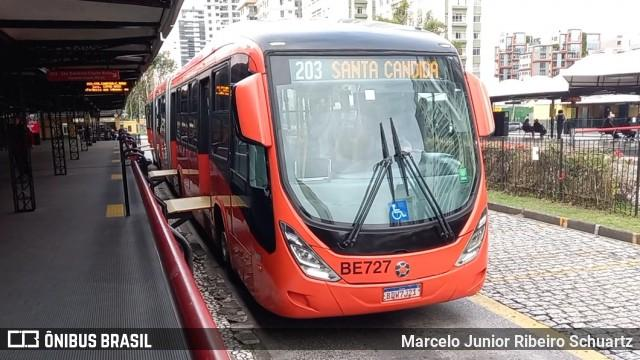SANTA CANDIDA: (326, 58, 441, 82)
